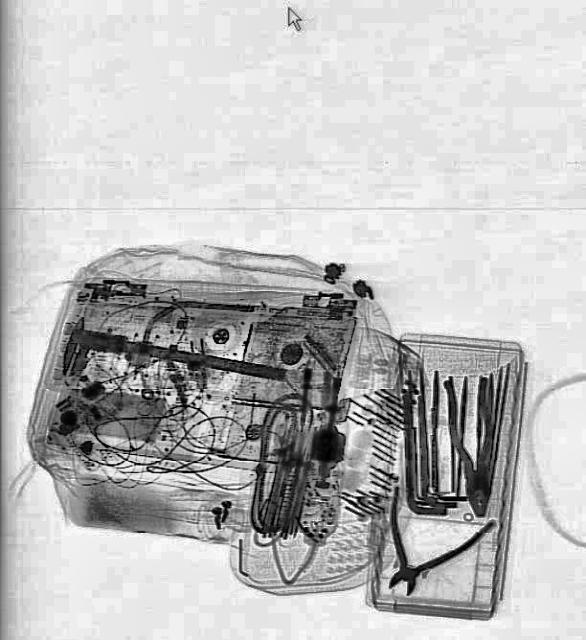Pliers: (358, 482, 495, 616), (442, 374, 504, 516)
